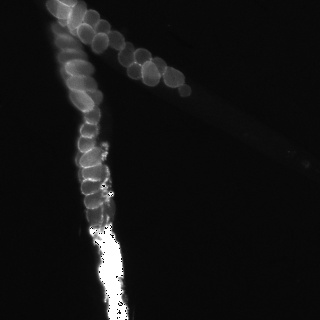embryo: (60, 62, 86, 92), (86, 199, 116, 224), (67, 2, 87, 34), (78, 147, 107, 169), (84, 187, 112, 209), (67, 74, 98, 93), (69, 90, 95, 112), (53, 34, 81, 54), (45, 0, 73, 20), (141, 57, 166, 79), (58, 48, 88, 66), (141, 58, 160, 86), (66, 59, 94, 78), (81, 164, 110, 182), (81, 178, 107, 196), (51, 22, 75, 41), (56, 2, 74, 27), (77, 89, 103, 106), (163, 66, 184, 87), (118, 42, 134, 67), (77, 23, 95, 44), (77, 133, 96, 152), (83, 105, 101, 125), (91, 32, 108, 53), (79, 121, 99, 138), (108, 30, 124, 51), (84, 9, 99, 27), (134, 48, 151, 63), (126, 61, 140, 79), (96, 19, 110, 32), (178, 84, 191, 96)
